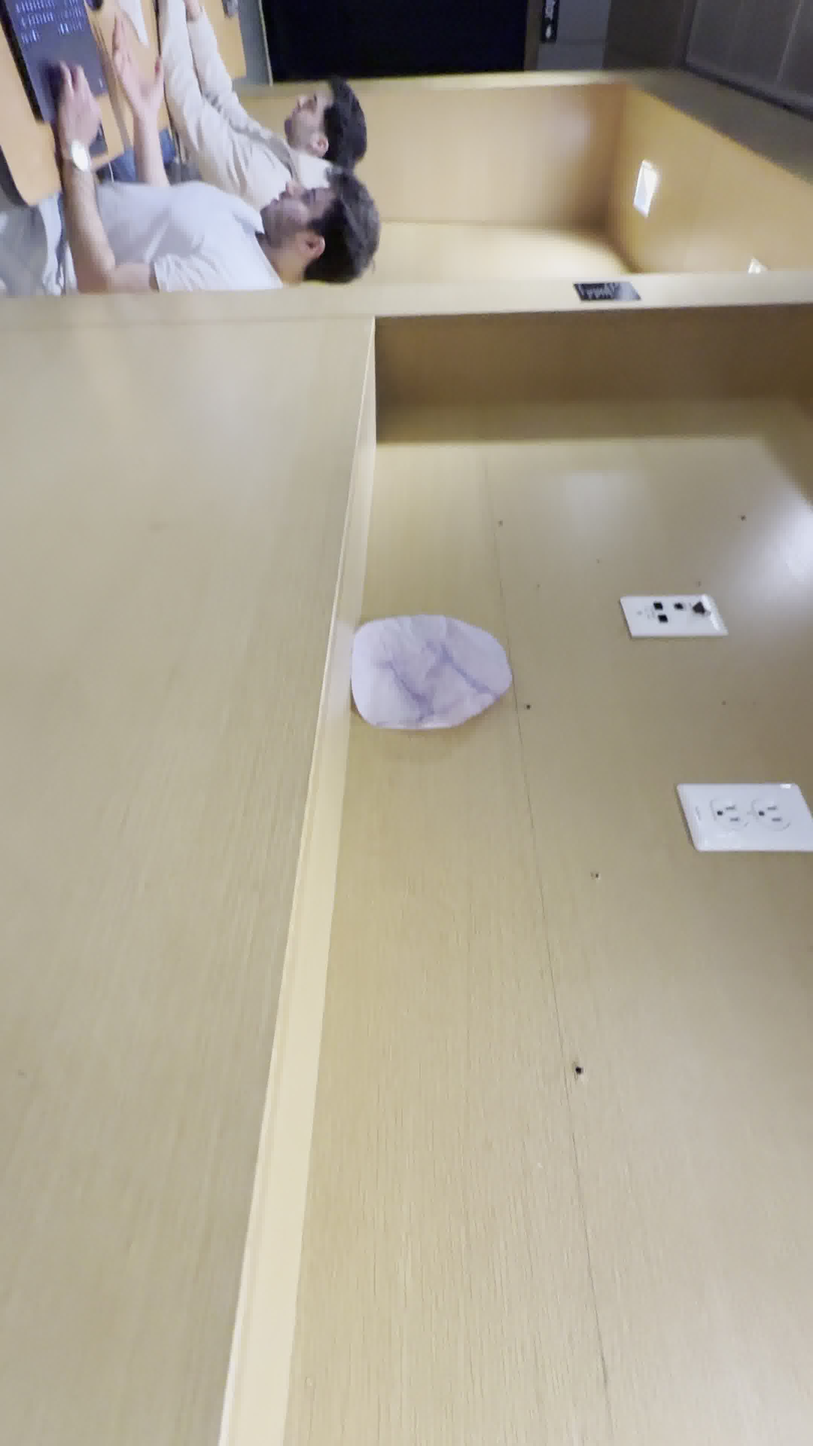Target: (352, 615, 513, 728)
